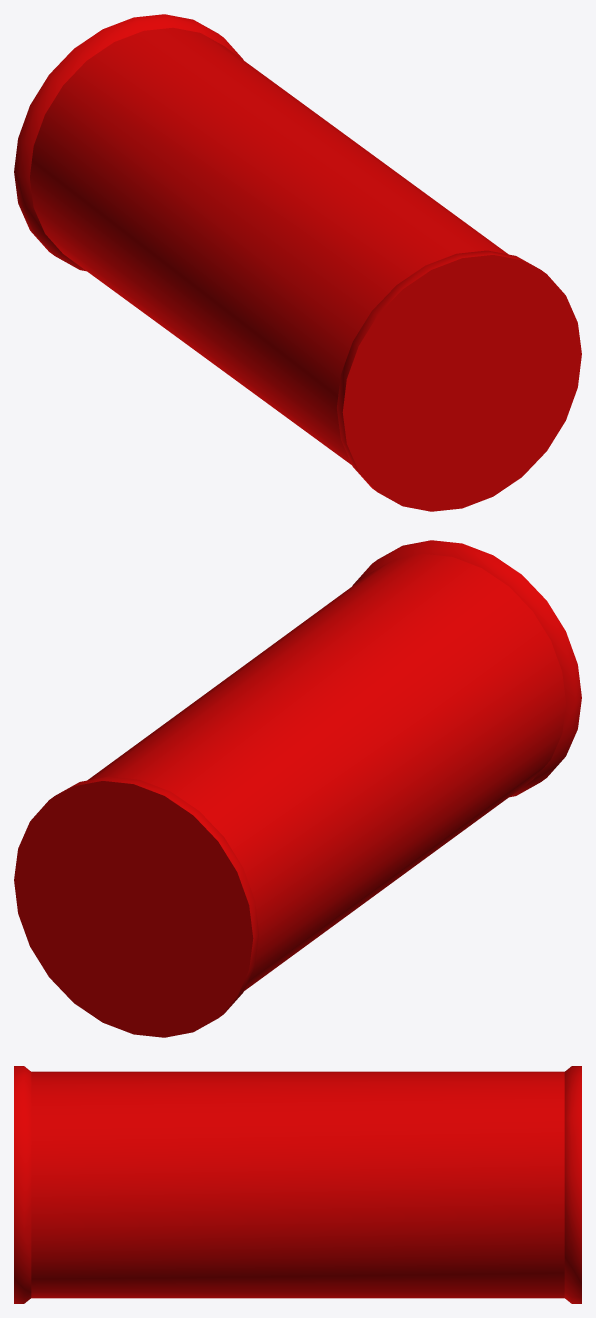
3 views of the same model, one above another, from view 1: azimuth 30°, elevation 25°; view 2: azimuth 150°, elevation 25°; view 3: azimuth 270°, elevation 25° (orthographic). The views are drawn at different scales.
Parts seen in each view (by area): view 1: Mesh; view 2: Mesh; view 3: Mesh.
Boxes of the visible parts, x1,y1,x2,y2 form: Mesh: (14, 14, 581, 511); Mesh: (14, 540, 581, 1037); Mesh: (14, 1066, 581, 1303).
Size of the model in its own units: 0.4202 by 0.4202 by 1.
